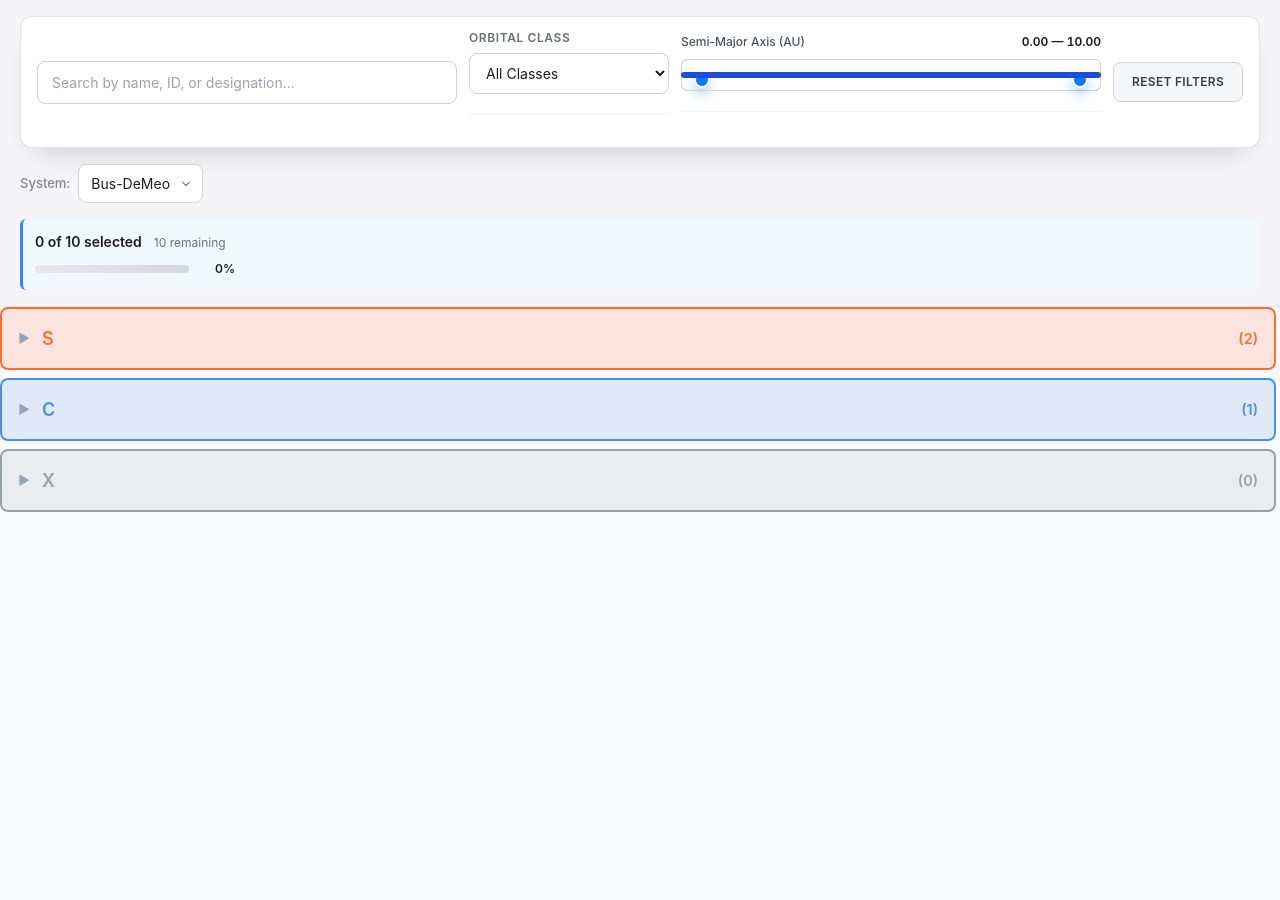
it: TaxonomyTree › expands and collapses classification nodes
Expected: the text "S" is shown, [42,328,54,349]
Expected: the text "Eros" is not shown
Click the button with class "classification-header" showing "▶ S (2)".
click(24, 338)  # box [0,307,1276,370]
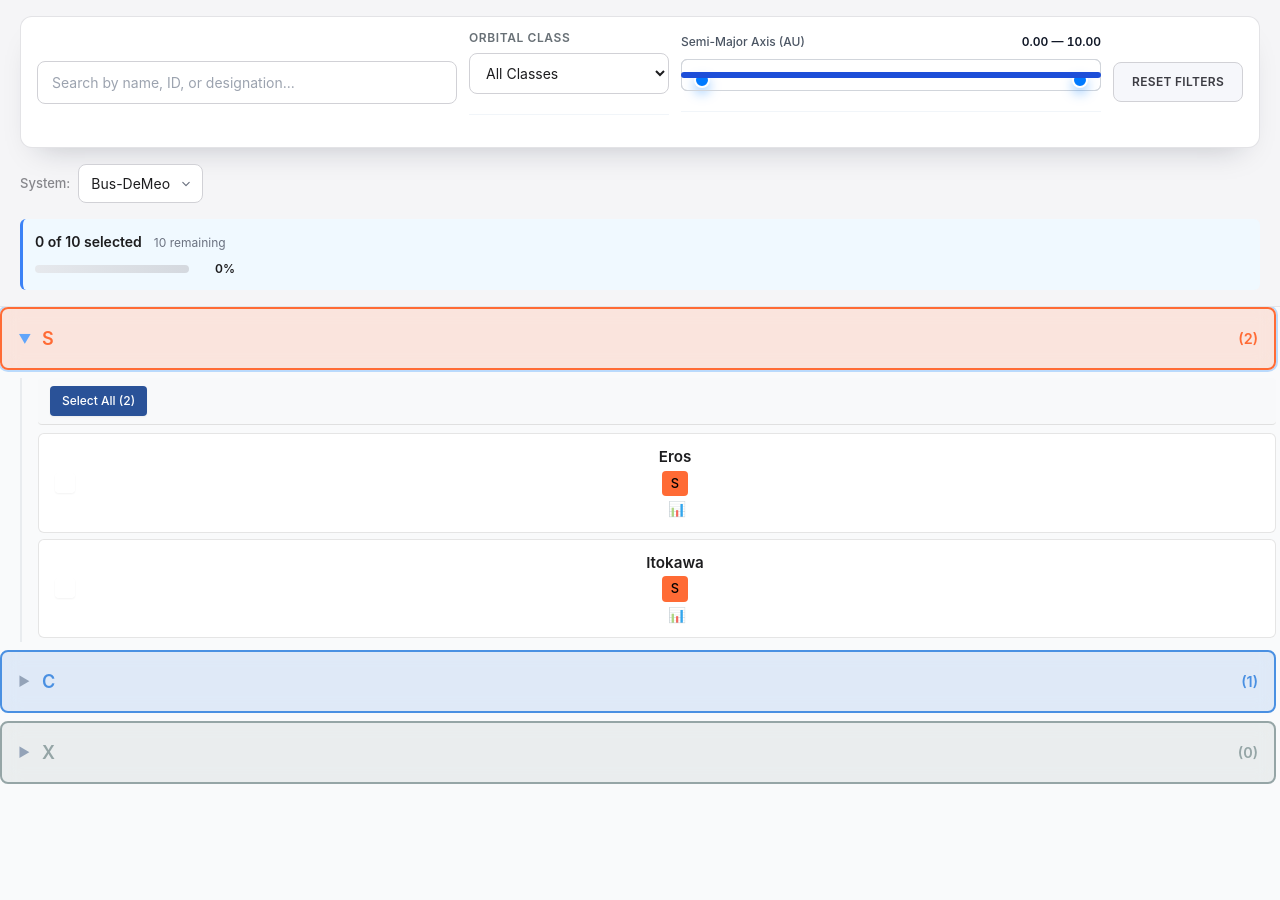
Now the text "Eros" is shown, box [659,446,691,469]
Now the text "Itokawa" is shown, box [646,552,704,574]
Click the button with class "classification-header" showing "▶ S (2)".
click(24, 338)  # box [0,307,1276,370]
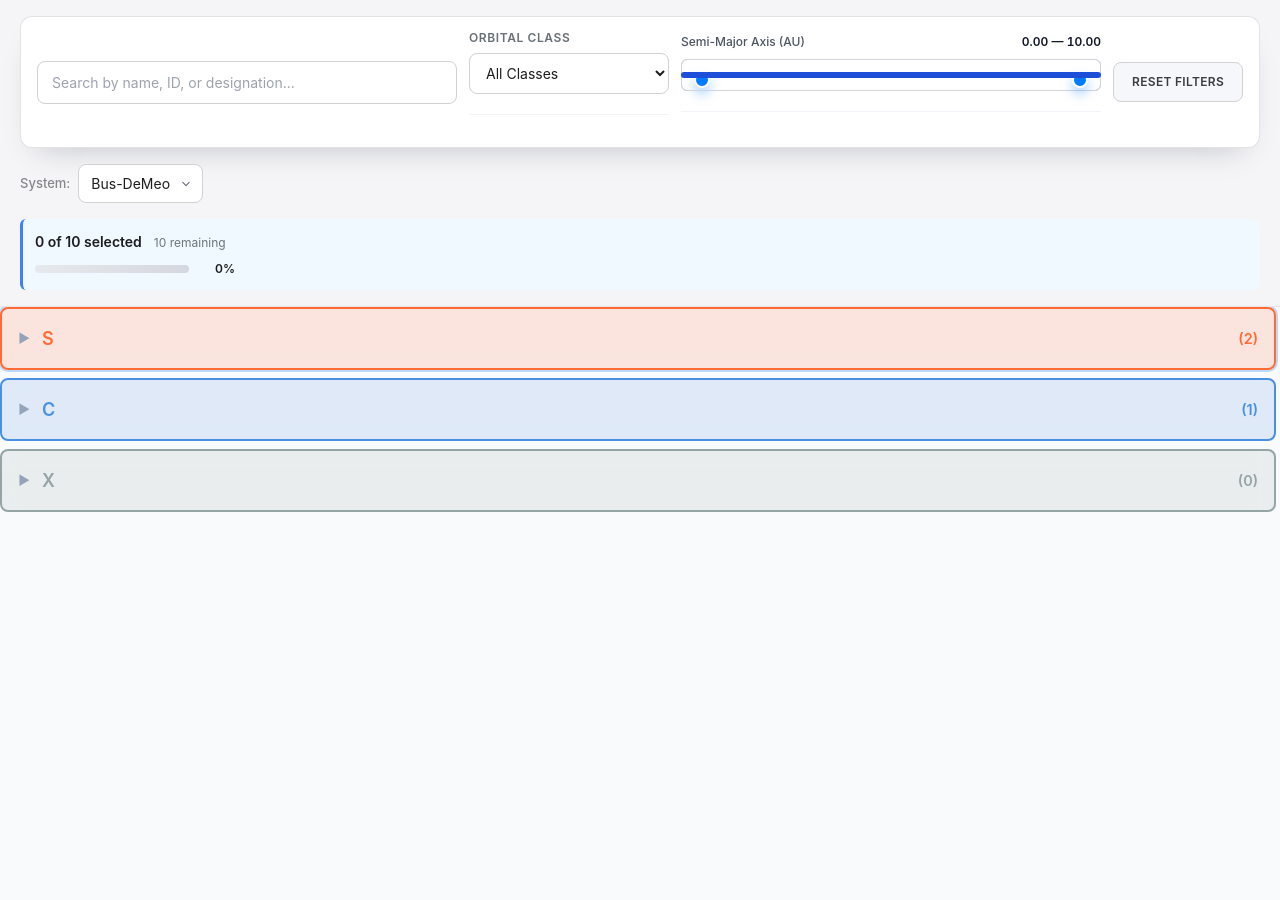
Now the text "Eros" is gone
